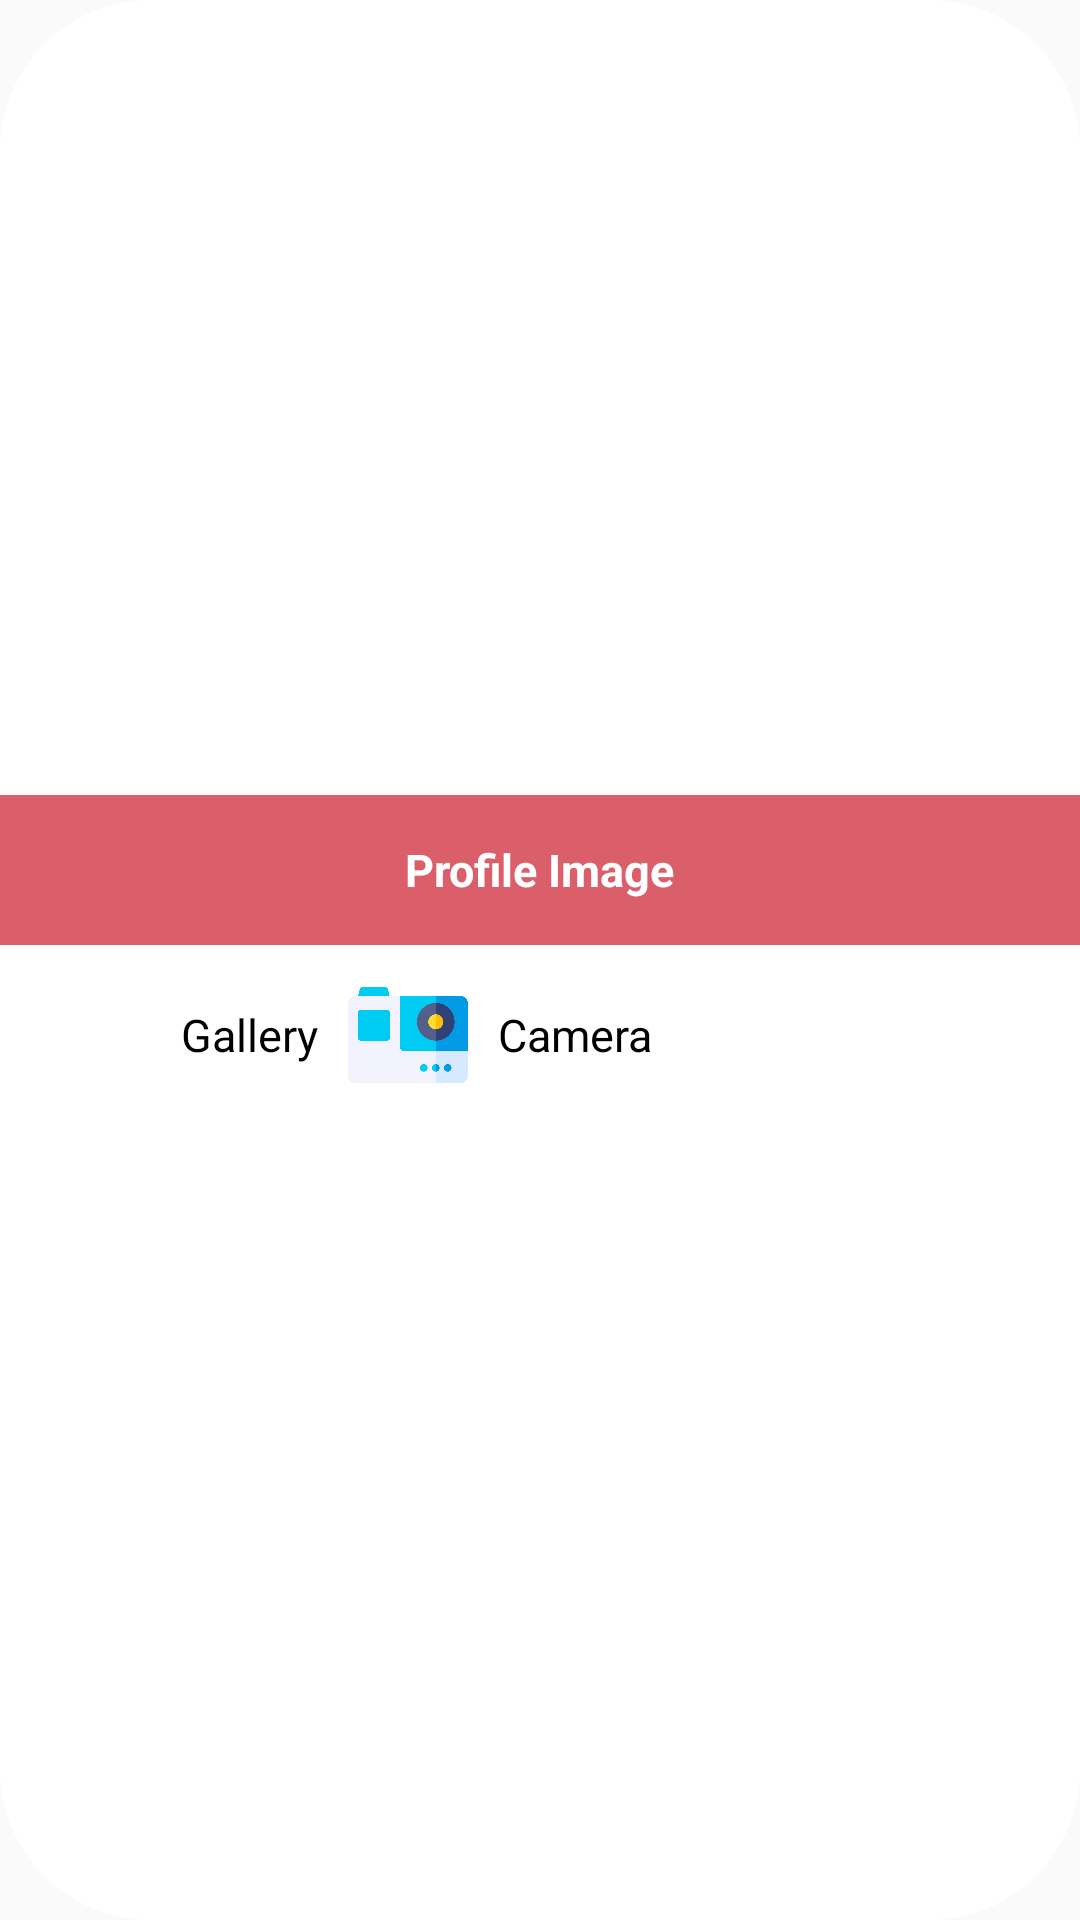

Where icons sit on this 1080x1920 app screen, as box=[x1, y1, x2, y2]:
camcorder: box=[358, 987, 468, 1083]
